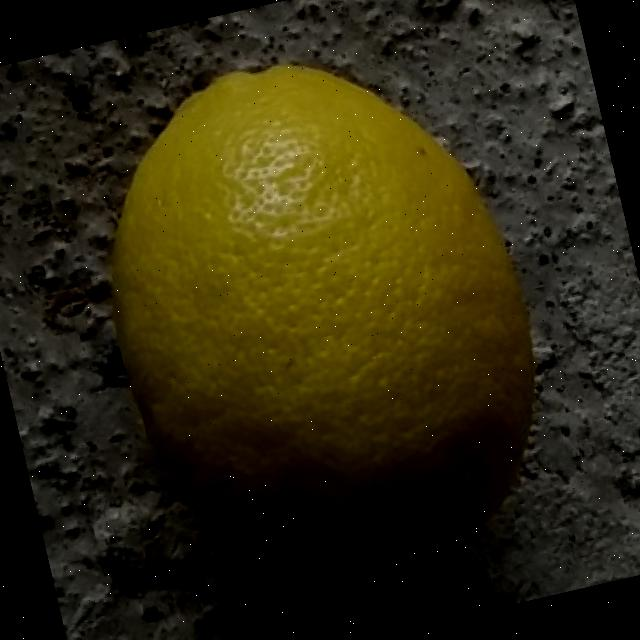Lemon: (60, 8, 595, 640)
